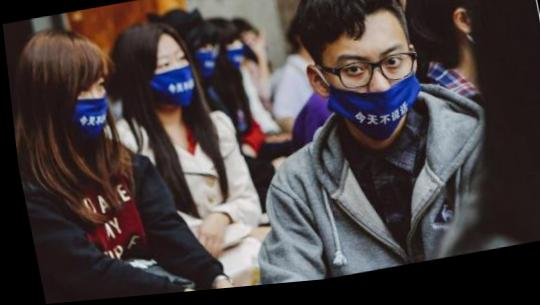OK: (51, 66, 124, 138), (141, 46, 199, 110), (182, 40, 221, 87), (216, 40, 247, 76)
WRONG: (324, 42, 425, 142)
